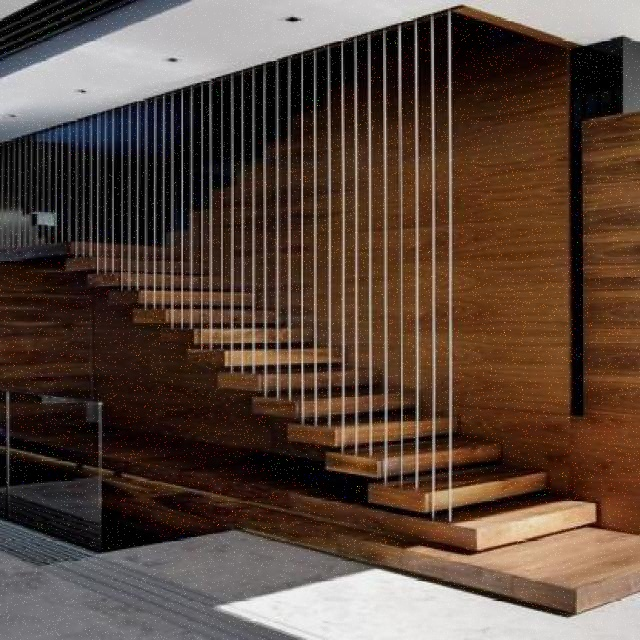stair: (14, 168, 635, 606)
